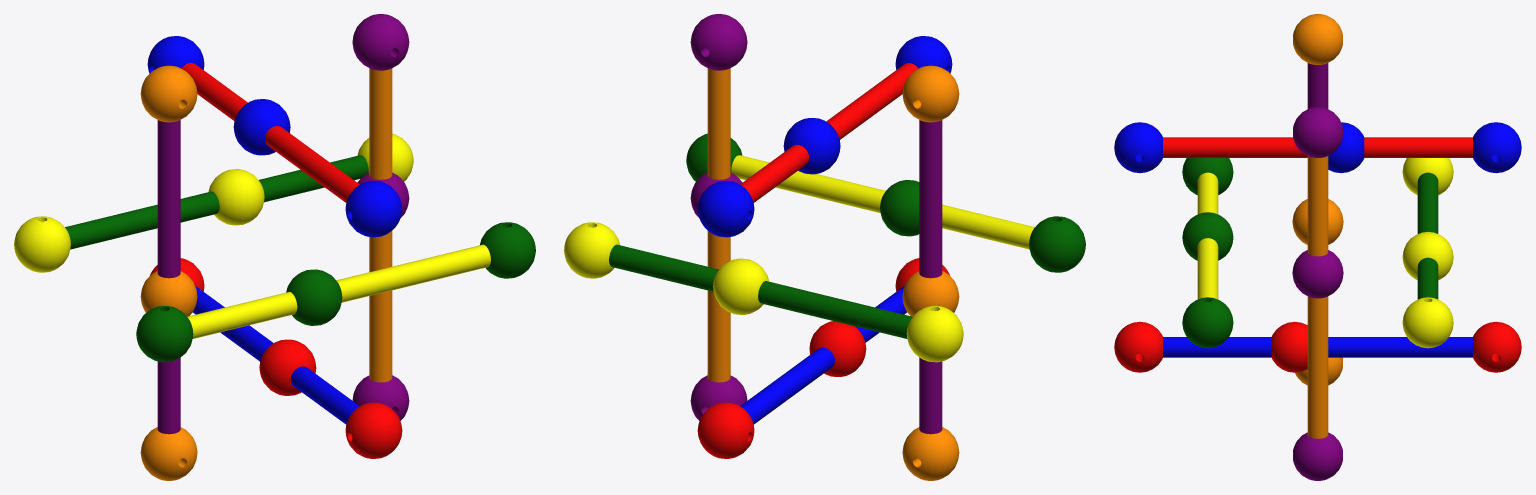
Rendered from hedronToy.fbx.
The picture shows the model from 3 angles, left to right: view 1: azimuth 30°, elevation 25°; view 2: azimuth 150°, elevation 25°; view 3: azimuth 270°, elevation 25°; orthographic projection. The views are drawn at different scales.
Visible parts, largest first — view 1: Group9, Group14, Group4, Group29, Group19, Group24, Group30, Group6, Group10, Group16, Group26, Group21 (+11 smaller); view 2: Group29, Group4, Group14, Group9, Group19, Group24, Group10, Group6, Group30, Group16, Group25, Group20 (+11 smaller); view 3: Group14, Group19, Group24, Group9, Group29, Group11, Group31, Group6, Group16, Group20, Group21, Group25 (+12 smaller).
Part boxes in pixels (left/top/right/bottom): Group9: left=187, top=244, right=490, bottom=338; Group14: left=369, top=68, right=392, bottom=382; Group4: left=157, top=120, right=180, bottom=434; Group29: left=65, top=155, right=368, bottom=249; Group19: left=181, top=63, right=359, bottom=202; Group24: left=193, top=286, right=359, bottom=424; Group30: left=14, top=216, right=70, bottom=272; Group6: left=140, top=65, right=197, bottom=122; Group10: left=136, top=306, right=193, bottom=362; Group16: left=352, top=14, right=409, bottom=70; Group26: left=345, top=402, right=402, bottom=458; Group21: left=345, top=181, right=402, bottom=237; Group29: left=609, top=244, right=912, bottom=338; Group4: left=919, top=120, right=942, bottom=434; Group14: left=707, top=68, right=730, bottom=382; Group9: left=731, top=155, right=1034, bottom=249; Group19: left=740, top=63, right=918, bottom=202; Group24: left=740, top=286, right=906, bottom=424; Group10: left=1029, top=216, right=1085, bottom=272; Group6: left=902, top=65, right=959, bottom=122; Group30: left=906, top=306, right=963, bottom=362; Group16: left=690, top=14, right=747, bottom=70; Group25: left=697, top=402, right=754, bottom=458; Group20: left=697, top=181, right=754, bottom=237; Group14: left=1307, top=156, right=1328, bottom=438; Group19: left=1163, top=137, right=1472, bottom=157; Group24: left=1163, top=337, right=1472, bottom=357; Group9: left=1197, top=172, right=1218, bottom=299; Group29: left=1417, top=172, right=1438, bottom=299; Group11: left=1182, top=297, right=1233, bottom=348; Group31: left=1402, top=297, right=1453, bottom=348; Group6: left=1293, top=14, right=1342, bottom=64; Group16: left=1293, top=107, right=1342, bottom=157; Group20: left=1473, top=122, right=1521, bottom=173; Group21: left=1114, top=122, right=1162, bottom=173; Group25: left=1473, top=321, right=1521, bottom=372.
Bounding box in the file's own units: 68.62 × 68.62 × 68.62.
